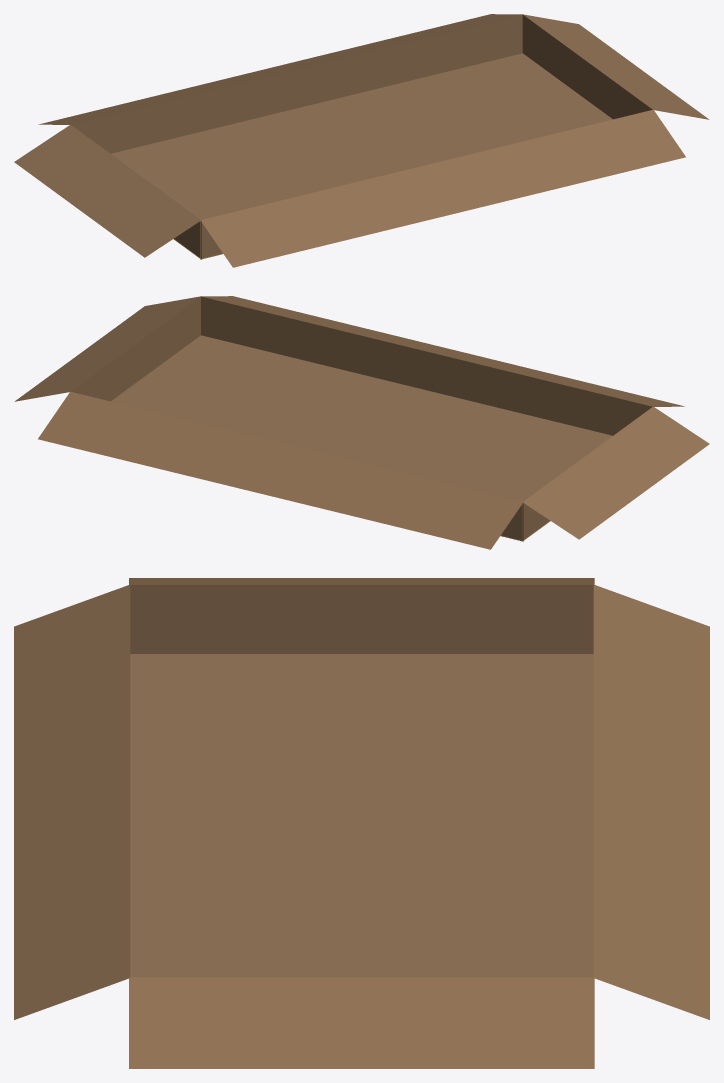
File: map.fbx
3 renders of one model, top to bottom at view 1: azimuth 30°, elevation 25°; view 2: azimuth 150°, elevation 25°; view 3: azimuth 270°, elevation 25°, orthographic. The views are drawn at different scales.
Parts seen in each view (by area): view 1: map; view 2: map; view 3: map.
Part boxes in pixels (x1,y1,x2,y2): map: [14, 14, 709, 267]; map: [14, 296, 709, 549]; map: [14, 578, 709, 1068].
Size of the model in its own units: 4987 by 333 by 2989.
